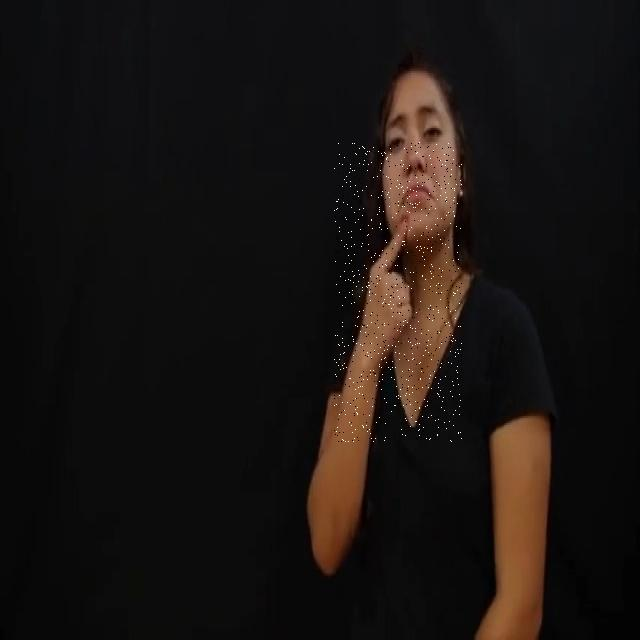bitter: (334, 142, 462, 442)
